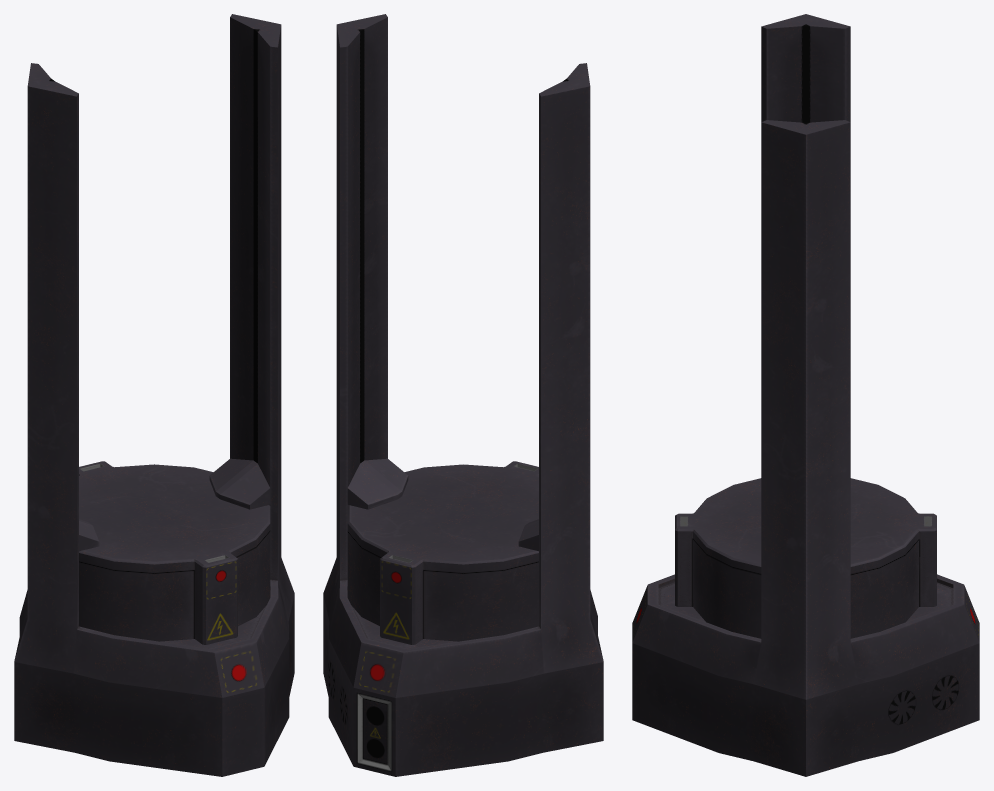
Rendered from Condensator.FBX.
3 renders of one model, left to right at view 1: azimuth 30°, elevation 25°; view 2: azimuth 150°, elevation 25°; view 3: azimuth 270°, elevation 25°, orthographic. The views are drawn at different scales.
Parts seen in each view (by area): view 1: CondensatorBox, Condensator, CondensatorCapL, CondensatorCapR; view 2: CondensatorBox, Condensator, CondensatorCapL, CondensatorCapR; view 3: CondensatorBox, Condensator.
Part boxes in pixels (x1=…): CondensatorBox: x1=14, y1=14, x2=294, y2=776; Condensator: x1=79, y1=461, x2=270, y2=644; CondensatorCapL: x1=209, y1=458, x2=270, y2=509; CondensatorCapR: x1=79, y1=519, x2=99, y2=551; CondensatorBox: x1=323, y1=14, x2=603, y2=776; Condensator: x1=347, y1=461, x2=538, y2=644; CondensatorCapL: x1=347, y1=458, x2=408, y2=509; CondensatorCapR: x1=518, y1=519, x2=538, y2=551; CondensatorBox: x1=632, y1=14, x2=979, y2=776; Condensator: x1=675, y1=478, x2=936, y2=638.
Bounding box in the file's own units: 74.37 × 165 × 81.68.
Materials: 1 (1 with a texture image).
